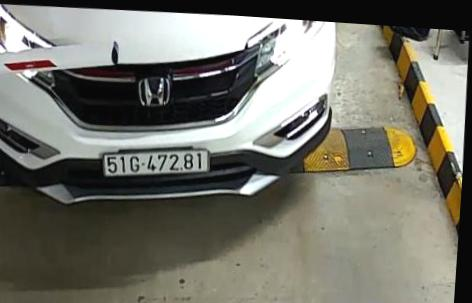License_Plate: (91, 142, 222, 190)
